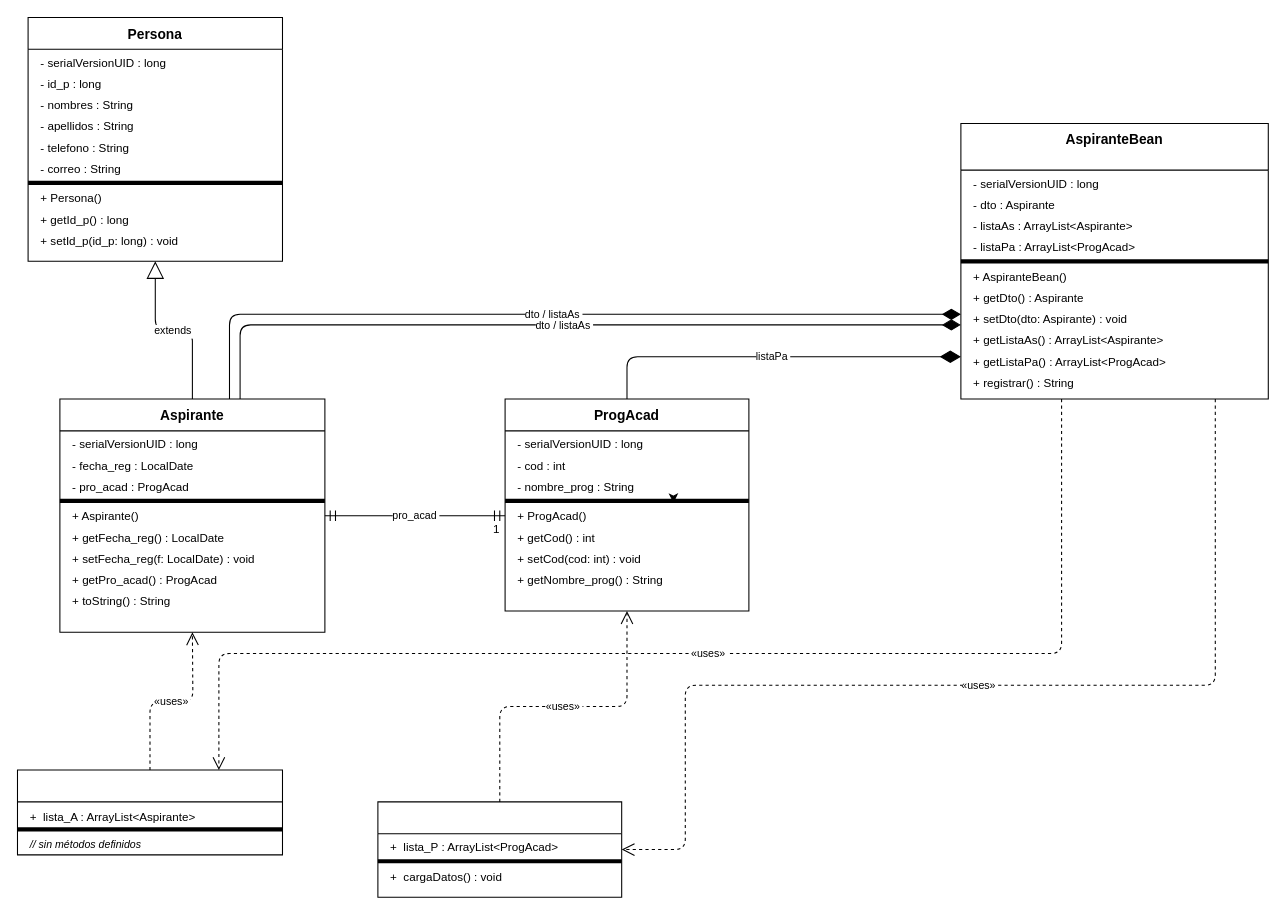
The diagram is 1286 pixels wide and 915 high, and some of its shapes have lost their labels. Each missing label, with the box of its shape:
AspiranteDAO: (16, 769, 282, 855)
ProgAcadDAO: (377, 801, 622, 897)
